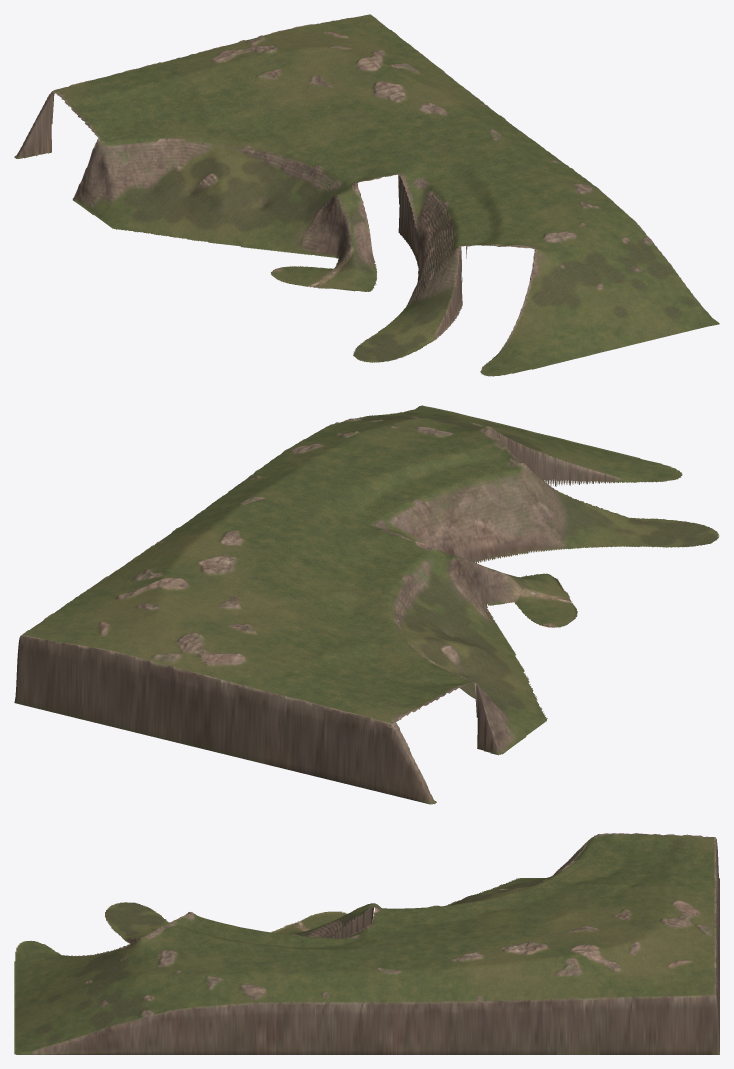
File: mountain.glb
The picture shows the model from 3 angles, top to bottom: view 1: azimuth 30°, elevation 25°; view 2: azimuth 150°, elevation 25°; view 3: azimuth 270°, elevation 25°; orthographic projection. The views are drawn at different scales.
Parts seen in each view (by area): view 1: MOUNTAIN_fixed, COVER_C2, COVER_C1, COVER_C3; view 2: MOUNTAIN_fixed, COVER_C2, COVER_C1, COVER_C3; view 3: MOUNTAIN_fixed, COVER_C1, COVER_C2, COVER_C3.
Boxes of the visible parts, x1,y1,x2,y2 form: MOUNTAIN_fixed: (14,14,719,376); COVER_C2: (271,81,518,191); COVER_C1: (51,71,322,149); COVER_C3: (439,169,544,258); MOUNTAIN_fixed: (14,405,719,804); COVER_C2: (226,475,435,608); COVER_C1: (231,600,478,741); COVER_C3: (316,426,523,510); MOUNTAIN_fixed: (14,837,719,1054); COVER_C1: (496,833,716,928); COVER_C2: (310,897,581,966); COVER_C3: (138,912,322,965).
Size of the model in its own units: 0.398 by 0.0759 by 0.6693.
4 materials, 4 textured.
